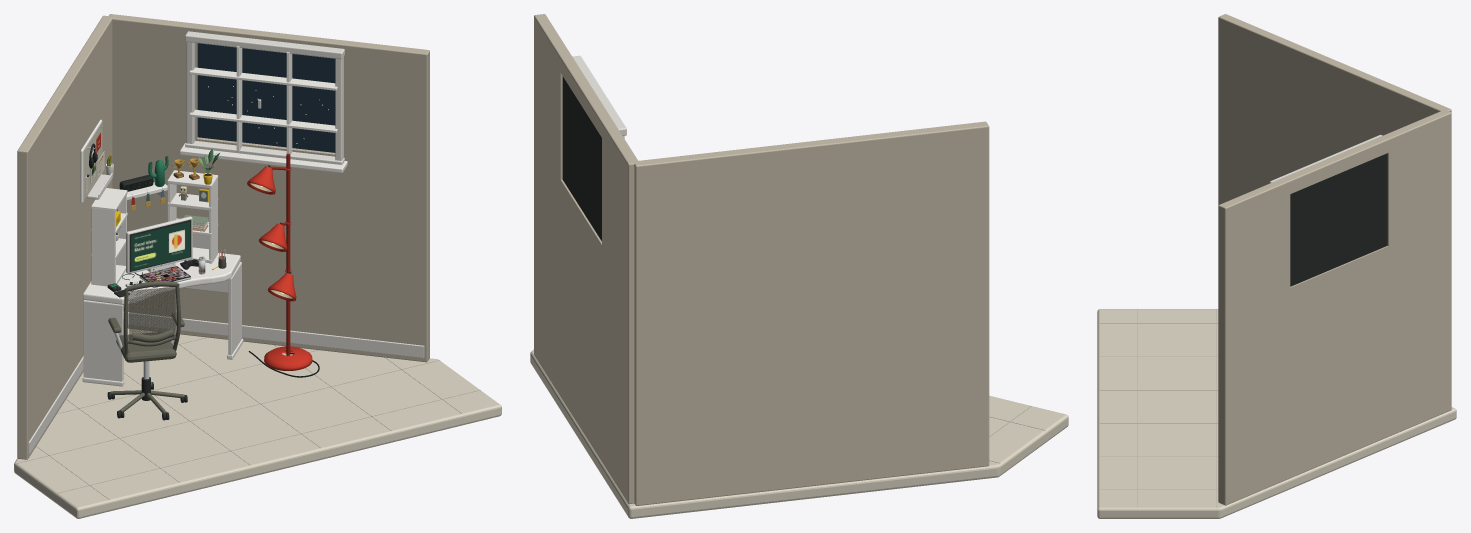
Rendered from workspace-saved.glb.
3 views of the same model, side by side, from view 1: azimuth 30°, elevation 25°; view 2: azimuth 150°, elevation 25°; view 3: azimuth 270°, elevation 25° (orthographic). The views are drawn at different scales.
Visible parts, largest first — view 1: _static · Limewashed plaster, Room floor, window_glass, _static · Warm powder-coated white, chair · Chair woven frame, window · Porcelain edges, window · Warm powder-coated white, workspace_left_wing · Porcelain edges, _static · Porcelain edges, workspace_right_wing · Porcelain edges, monitor_screen, Chair breathable mesh (+4 smaller); view 2: _static · Limewashed plaster, Room floor, Window deep recess, window · Warm powder-coated white; view 3: _static · Limewashed plaster, Room floor, Window deep recess, _static · Tile grout.
Part boxes in pixels (x1,y1,x2,y2): _static · Limewashed plaster: [17, 14, 429, 459]; Room floor: [14, 328, 501, 518]; window_glass: [198, 43, 335, 152]; _static · Warm powder-coated white: [28, 192, 424, 454]; chair · Chair woven frame: [108, 281, 184, 414]; window · Porcelain edges: [180, 46, 347, 172]; window · Warm powder-coated white: [185, 31, 344, 164]; workspace_left_wing · Porcelain edges: [80, 119, 127, 286]; _static · Porcelain edges: [82, 182, 243, 386]; workspace_right_wing · Porcelain edges: [167, 170, 218, 263]; monitor_screen: [131, 221, 190, 270]; Chair breathable mesh: [129, 287, 175, 340]; _static · Limewashed plaster: [534, 14, 989, 505]; Room floor: [530, 350, 1068, 518]; Window deep recess: [562, 76, 601, 241]; window · Warm powder-coated white: [572, 55, 626, 138]; _static · Limewashed plaster: [1218, 14, 1451, 505]; Room floor: [1097, 309, 1456, 518]; Window deep recess: [1290, 153, 1387, 286]; _static · Tile grout: [1100, 309, 1420, 507].
Size of the model in its own units: 6.64 by 4.76 by 5.02.
Materials: 61 (10 with a texture image).
